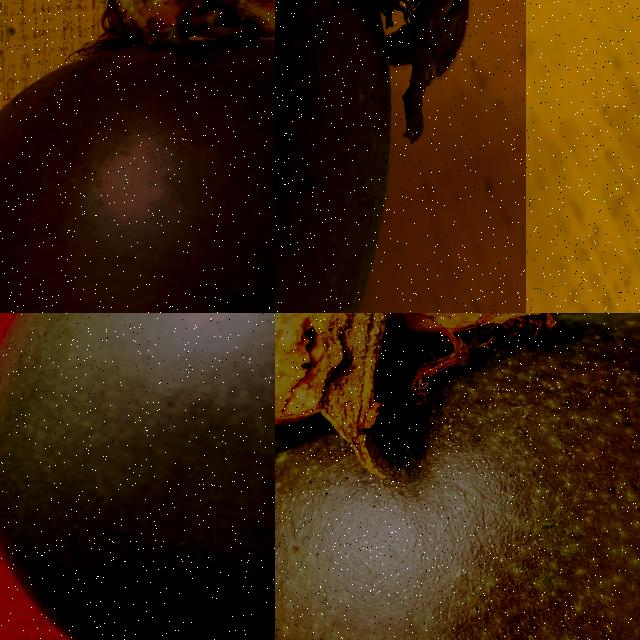Estado-1: (0, 313, 275, 640)
Estado-3: (275, 313, 640, 640)
Estado-4: (0, 0, 275, 313), (275, 0, 386, 313)
